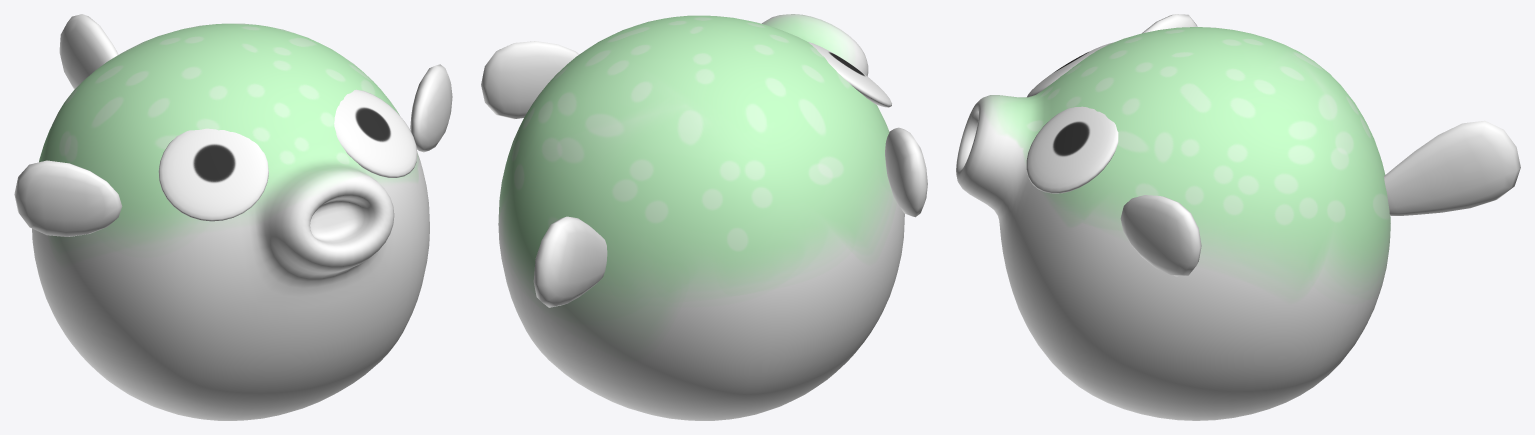
Rendered from hugu.glb.
3 views of the same model, side by side, from view 1: azimuth 30°, elevation 25°; view 2: azimuth 150°, elevation 25°; view 3: azimuth 270°, elevation 25° (orthographic). The views are drawn at different scales.
Parts seen in each view (by area): view 1: 立方体.002, 球, 立方体, 立方体.001; view 2: 立方体.002, 立方体, 立方体.001, 球; view 3: 立方体.002, 立方体.001, 球, 立方体.
Boxes of the visible parts, x1=… form: 立方体.002: x1=32, y1=23, x2=429, y2=420; 球: x1=158, y1=89, x2=417, y2=221; 立方体: x1=14, y1=64, x2=452, y2=236; 立方体.001: x1=59, y1=14, x2=118, y2=89; 立方体.002: x1=498, y1=14, x2=904, y2=420; 立方体: x1=481, y1=41, x2=927, y2=217; 立方体.001: x1=533, y1=216, x2=607, y2=307; 球: x1=808, y1=42, x2=891, y2=107; 立方体.002: x1=956, y1=27, x2=1390, y2=420; 立方体.001: x1=1384, y1=120, x2=1520, y2=215; 球: x1=1026, y1=42, x2=1118, y2=193; 立方体: x1=1120, y1=14, x2=1201, y2=276.
Size of the model in its own units: 2.05 by 1.6 by 2.33.
1 material, 1 textured.
